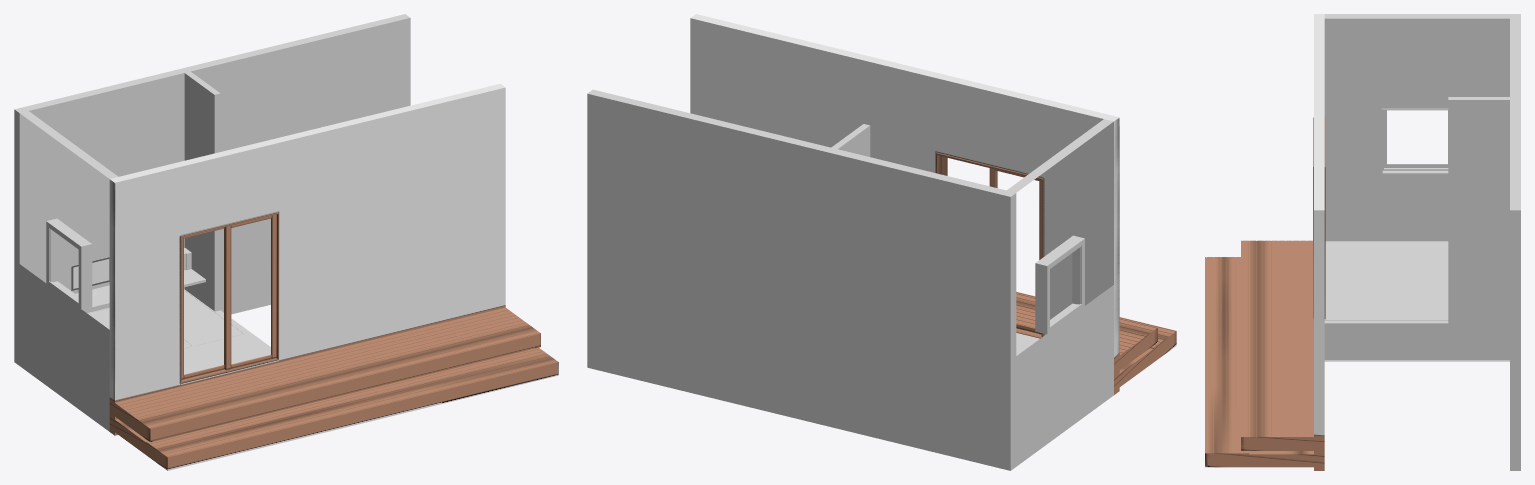
3 renders of one model, left to right at view 1: azimuth 30°, elevation 25°; view 2: azimuth 150°, elevation 25°; view 3: azimuth 270°, elevation 25°, orthographic. The views are drawn at different scales.
Parts seen in each view (by area): view 1: 1.wall.002, 1.wall.001, 1.wall, 4-2.deck, 4-2.deck.002, 1.wall.003, 3.window.001, 2.floor.004, 2.floor.003, 4.deck.003, 4.deck.012, 4.deck.015 (+19 smaller); view 2: 1.wall.001, 1.wall.002, 1.wall, 3-2.window, 4.deck.011, 3.window.003, 立方体.001, 1.wall.003; view 3: 1.wall, 1.wall.003, 2.floor, 1.wall.002, 1.wall.001, 2.floor.001, 2.floor.004, 2.floor.003, 4.deck.011, 3.floor.005, 4.deck.013, 4.deck.003 (+18 smaller).
Boxes of the visible parts, x1,y1,x2,y2 form: 1.wall.002: (109, 83, 505, 435); 1.wall.001: (14, 14, 410, 365); 1.wall: (19, 111, 118, 431); 4-2.deck: (149, 333, 540, 442); 4-2.deck.002: (167, 361, 558, 470); 1.wall.003: (184, 71, 220, 311); 3.window.001: (225, 214, 276, 370); 2.floor.004: (184, 333, 270, 374); 2.floor.003: (184, 289, 243, 345); 4.deck.003: (139, 325, 532, 423); 4.deck.012: (163, 359, 557, 457); 4.deck.015: (153, 351, 546, 449); 1.wall.001: (587, 89, 1016, 470); 1.wall.002: (690, 14, 1119, 394); 1.wall: (1007, 119, 1113, 466); 3-2.window: (1035, 235, 1084, 334); 4.deck.011: (1119, 332, 1176, 386); 3.window.003: (936, 152, 1043, 338); 立方体.001: (1047, 240, 1084, 332); 1.wall.003: (831, 124, 870, 156); 1.wall: (1324, 14, 1509, 241); 1.wall.003: (1448, 97, 1509, 323); 2.floor: (1324, 320, 1509, 360); 1.wall.002: (1314, 14, 1324, 470); 1.wall.001: (1510, 14, 1520, 470); 2.floor.001: (1325, 241, 1448, 267); 2.floor.004: (1324, 267, 1386, 320); 2.floor.003: (1386, 293, 1448, 320); 4.deck.011: (1206, 451, 1313, 467); 3.floor.005: (1386, 267, 1448, 293); 4.deck.013: (1213, 257, 1220, 454); 4.deck.003: (1256, 240, 1263, 437).
Size of the model in its own units: 6.49 by 4 by 4.4.
3 materials, 1 textured.
